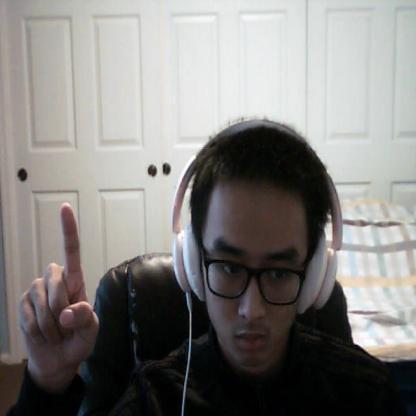finger_point: (56, 201, 86, 291)
